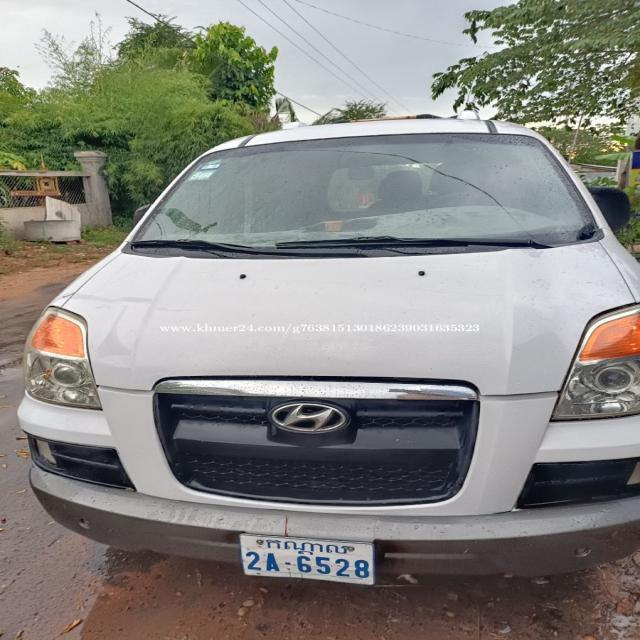Kandal: (264, 536, 349, 558)
